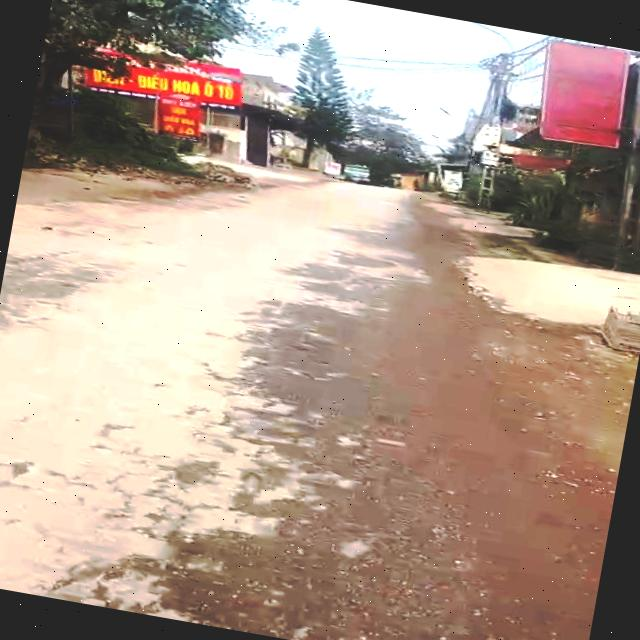pothole: (64, 531, 315, 640)
